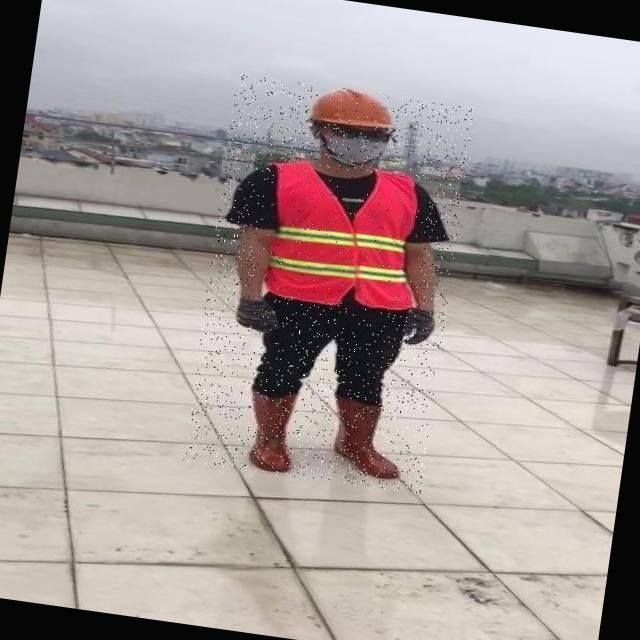boots: (324, 393, 412, 483), (234, 383, 308, 478)
gloves: (230, 292, 284, 336), (396, 300, 437, 350)
helmet: (308, 80, 399, 132)
vest: (253, 158, 432, 314)
